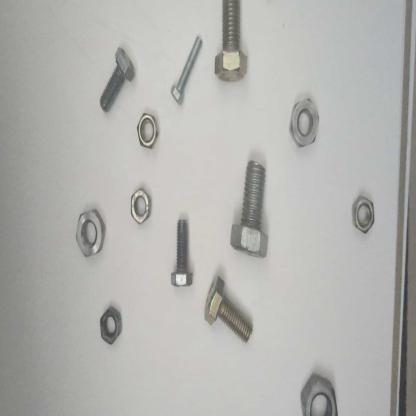Bolts: (225, 158, 273, 266), (203, 272, 261, 352), (210, 0, 255, 100), (94, 43, 139, 124), (171, 28, 204, 108), (170, 215, 199, 294)
NUTS: (292, 354, 340, 416), (288, 94, 323, 154), (74, 204, 112, 259), (348, 190, 386, 237), (98, 294, 125, 353), (133, 110, 165, 156), (128, 179, 155, 229)
